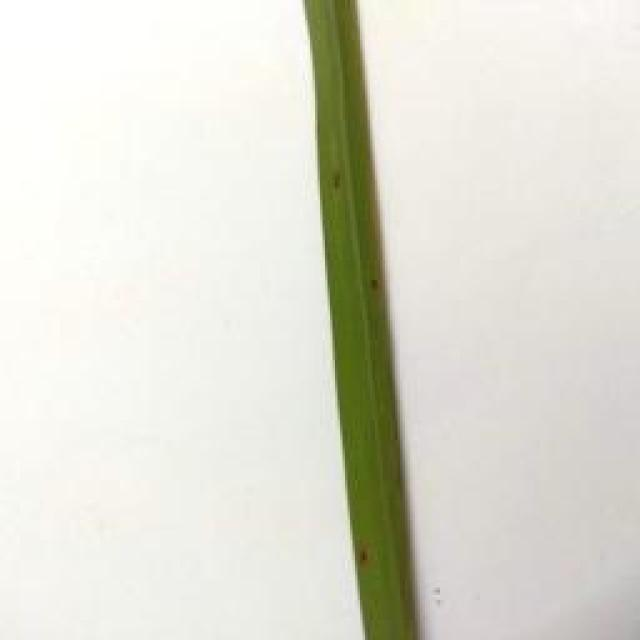Brown_Spot: (317, 162, 354, 202), (361, 275, 391, 297), (353, 544, 370, 566)
